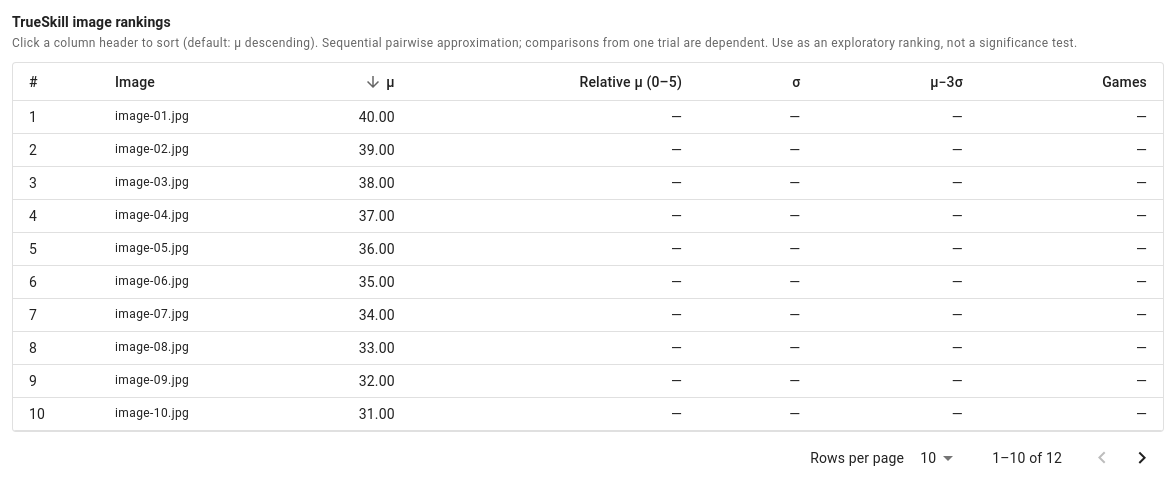
a long ranking paginates instead of listing every image
Expected: the table shows "image-01.jpg", left=115, top=109, right=189, bottom=123
Expected: the table does not show "image-12.jpg"
Click the button named "Go to next page" at (1142, 458), box left=1122, top=438, right=1162, bottom=478
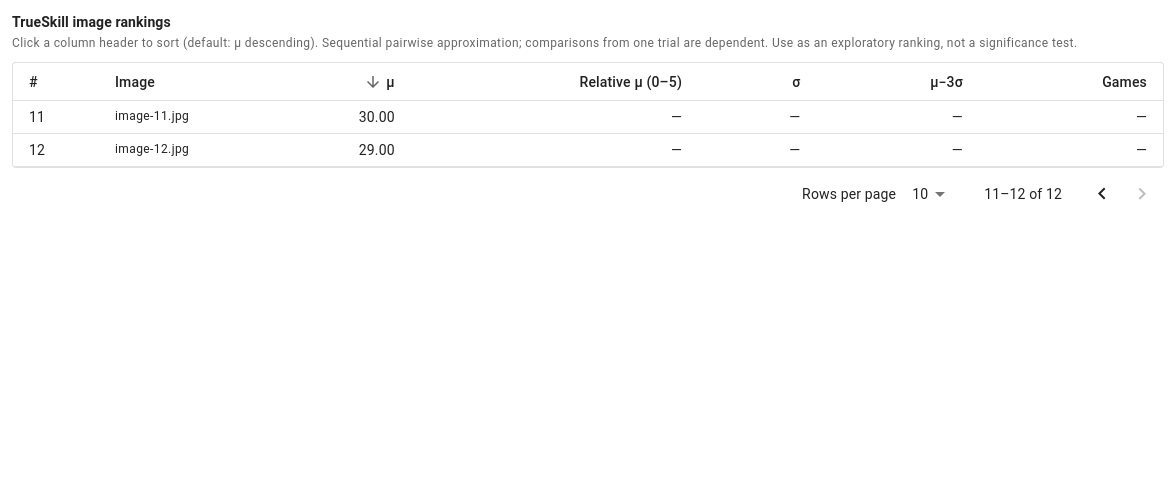
Now the table shows "image-11.jpg", box left=115, top=109, right=189, bottom=123
Now the table shows "image-12.jpg", box left=115, top=142, right=189, bottom=156
Now the text "image-01.jpg" is gone
